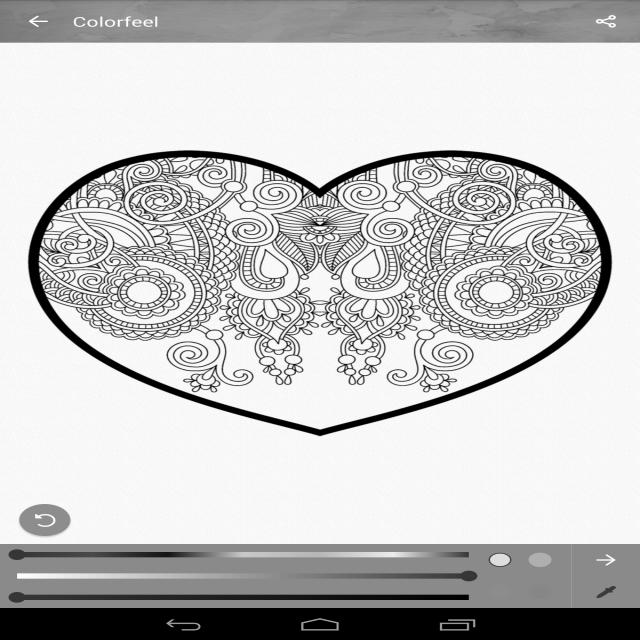ImageButton: (9, 3, 68, 40)
ImageView: (571, 544, 640, 576), (571, 576, 640, 608), (17, 504, 73, 539)
RadioButton: (488, 553, 512, 567), (528, 553, 552, 567), (488, 585, 512, 599), (528, 585, 552, 599)
TextView: (580, 5, 632, 38), (72, 12, 159, 30)
